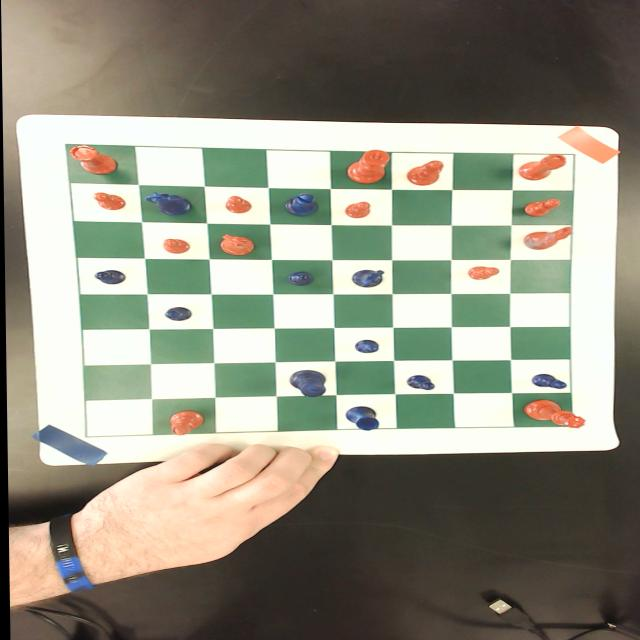B: (282, 194, 317, 218)
K: (286, 370, 324, 398)
N: (141, 192, 192, 216), (348, 268, 384, 288)
P: (529, 374, 566, 391), (91, 269, 126, 285), (162, 306, 192, 322), (405, 375, 434, 391), (286, 272, 314, 286), (352, 339, 378, 354)
R: (344, 407, 379, 431)
b: (402, 160, 443, 186), (165, 410, 204, 434)
cb: (65, 144, 574, 437)
k: (344, 150, 390, 184)
n: (520, 226, 570, 250), (215, 234, 255, 256)
p: (520, 198, 561, 218), (90, 191, 125, 211), (222, 194, 250, 214), (464, 266, 498, 282), (161, 238, 189, 255), (343, 201, 369, 219)
q: (521, 398, 583, 428)
r: (66, 144, 118, 177), (517, 154, 567, 182)
